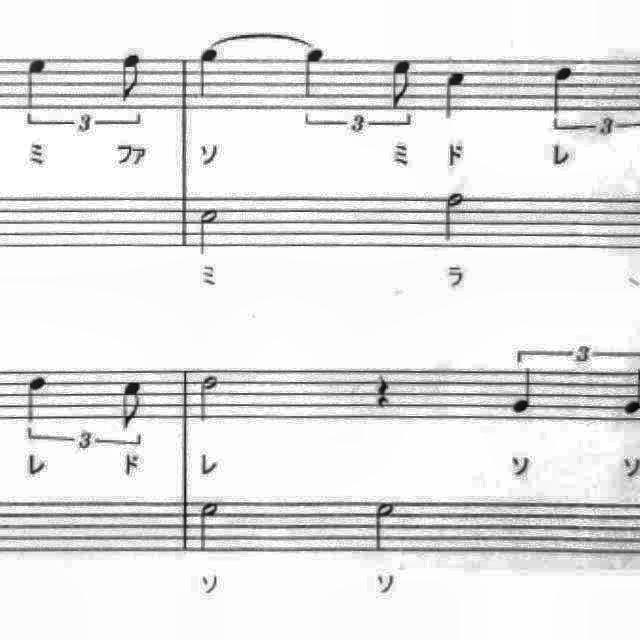Eighth-note: (383, 54, 421, 116), (116, 376, 152, 436), (115, 46, 151, 106)
Half-note: (367, 495, 405, 557), (192, 494, 228, 558), (192, 202, 228, 262), (438, 185, 472, 247), (194, 369, 226, 426)
Quarter-note: (18, 51, 54, 120), (190, 43, 230, 105), (437, 64, 475, 128), (296, 43, 334, 105), (546, 60, 582, 120), (506, 362, 542, 420), (20, 368, 54, 428), (618, 364, 640, 421)
Quarter-rest: (368, 365, 397, 413)
